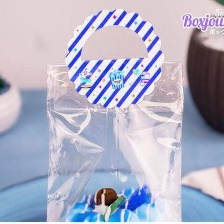snack: (33, 2, 193, 221)
